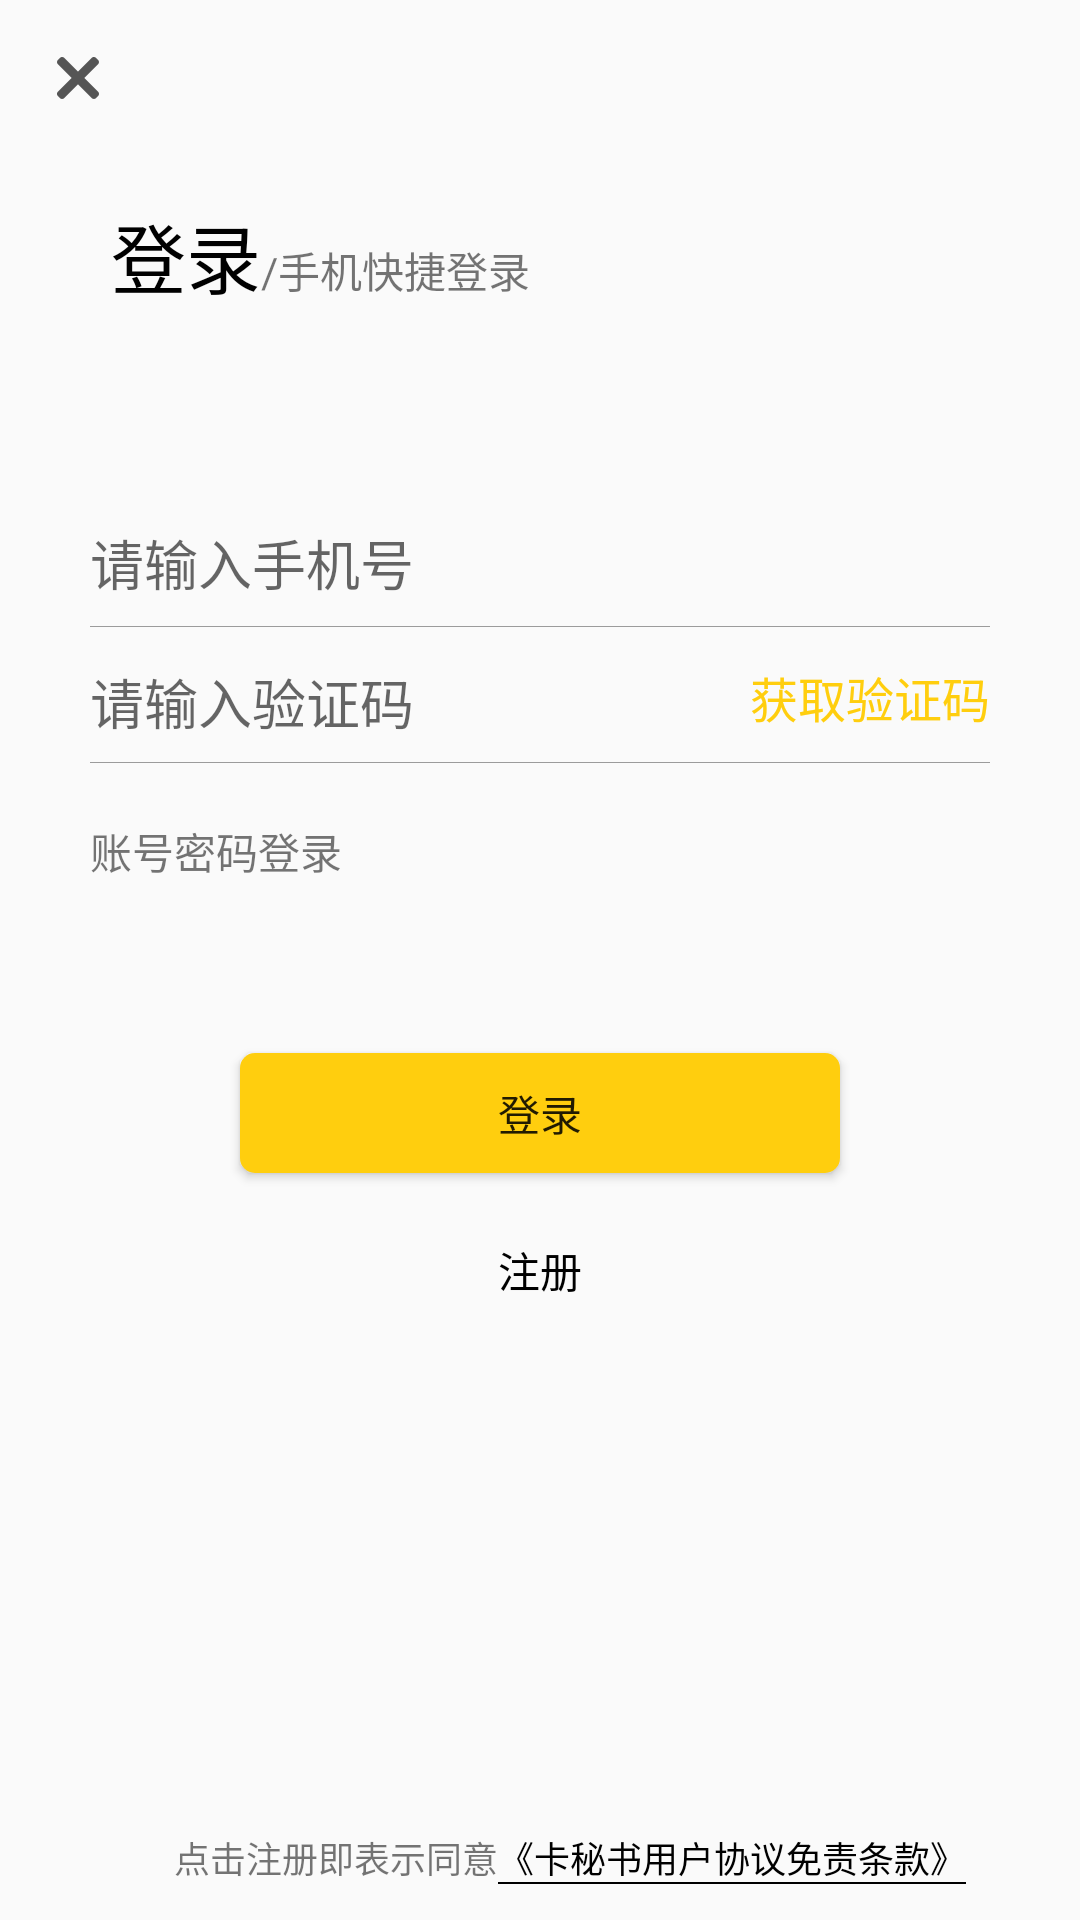

Screen size 1080px x 1920px. Icon name, then its box in pixels as (x1, y1, x2, y2):
close: (57, 57, 99, 99)
